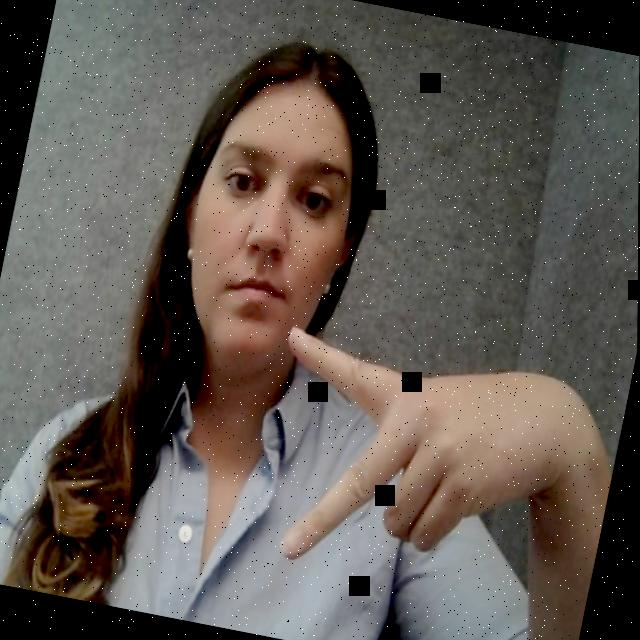Scissors: (233, 296, 578, 600)
